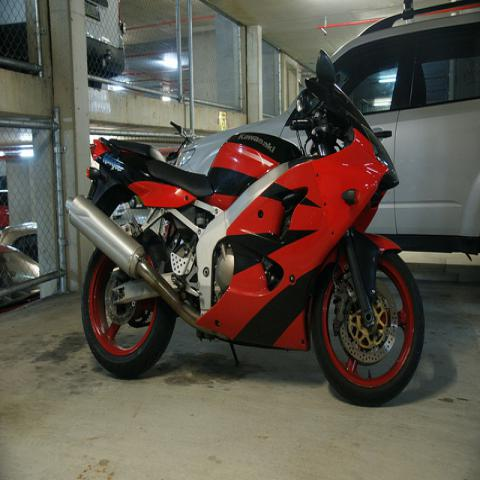car: (177, 4, 479, 264), (0, 0, 128, 92), (0, 221, 42, 289)
motorcycle: (67, 61, 426, 407)
